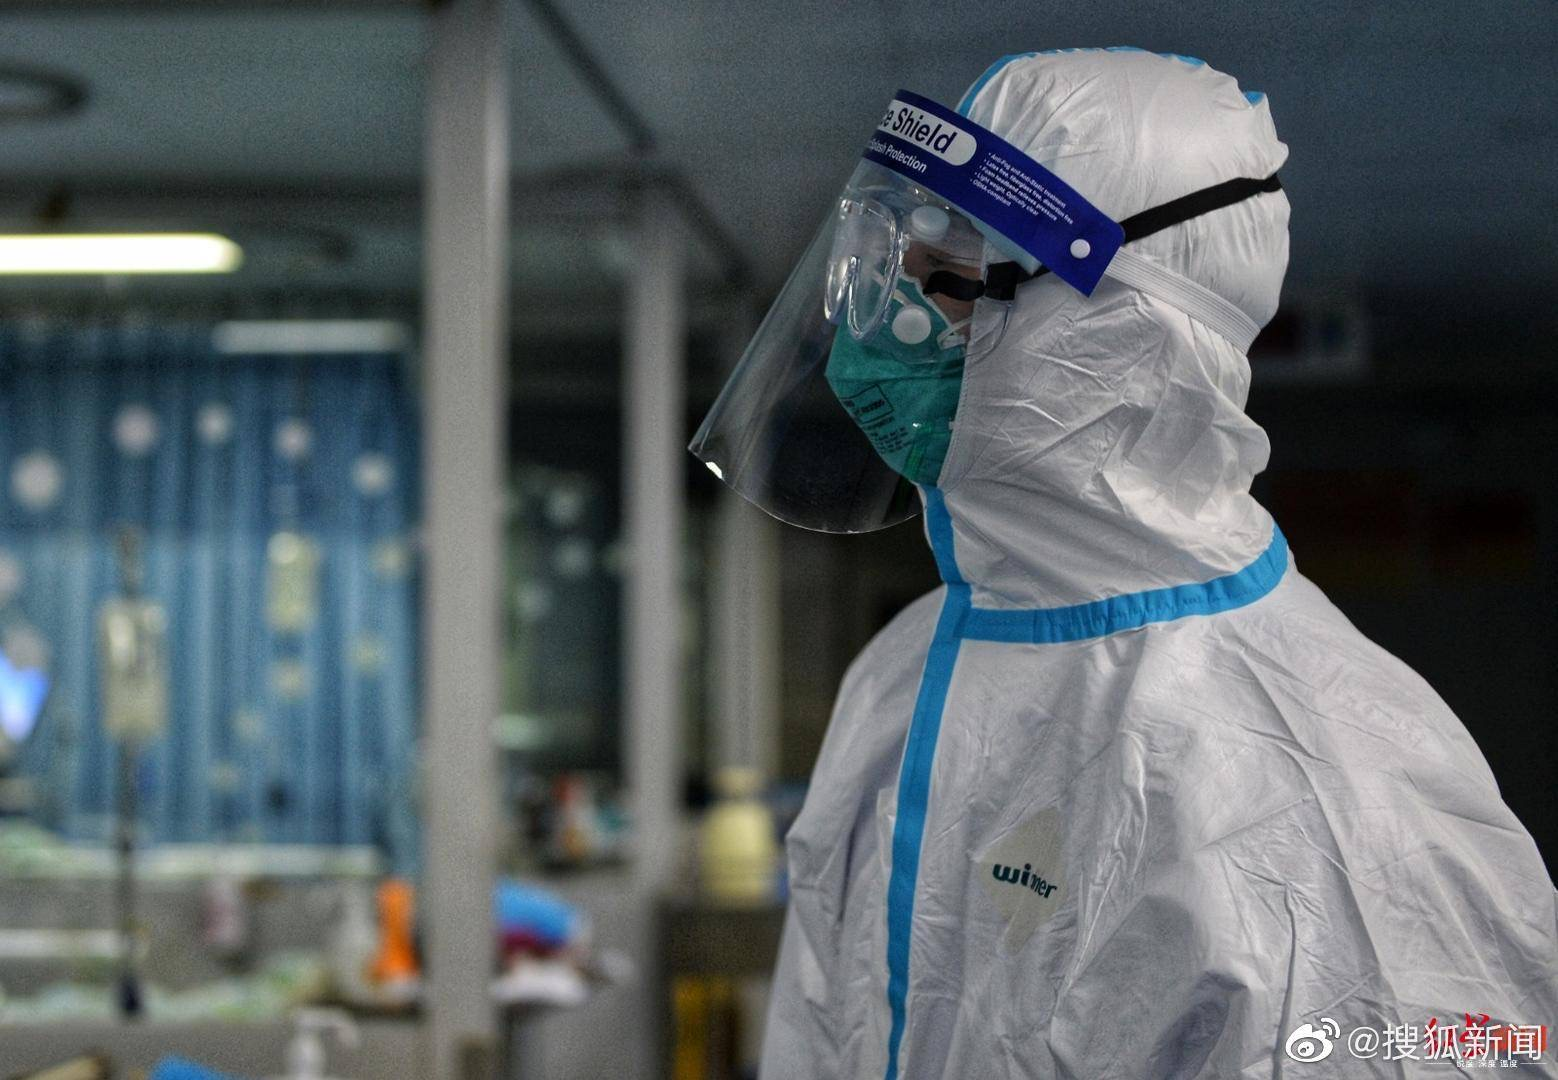rightmask: (865, 34, 1324, 687)
